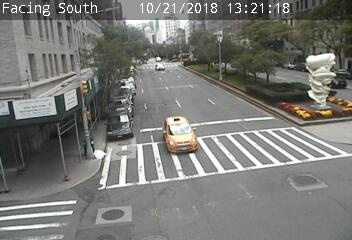car: (164, 115, 199, 152), (154, 63, 165, 71)
